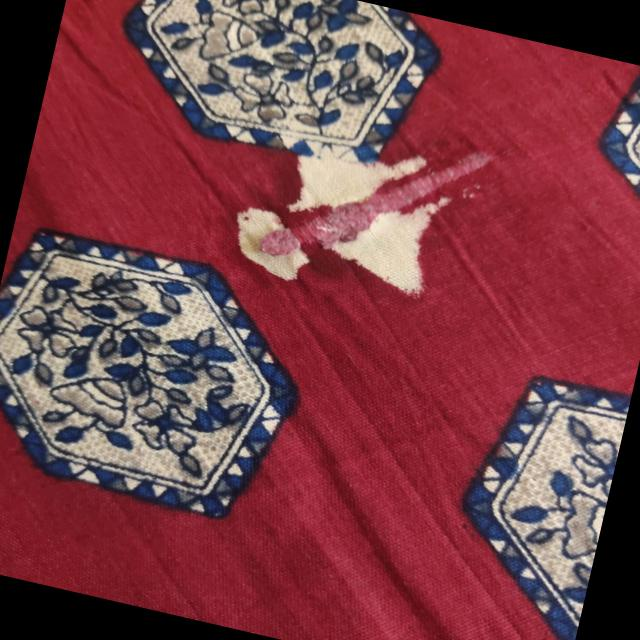stain: (233, 118, 473, 302)
